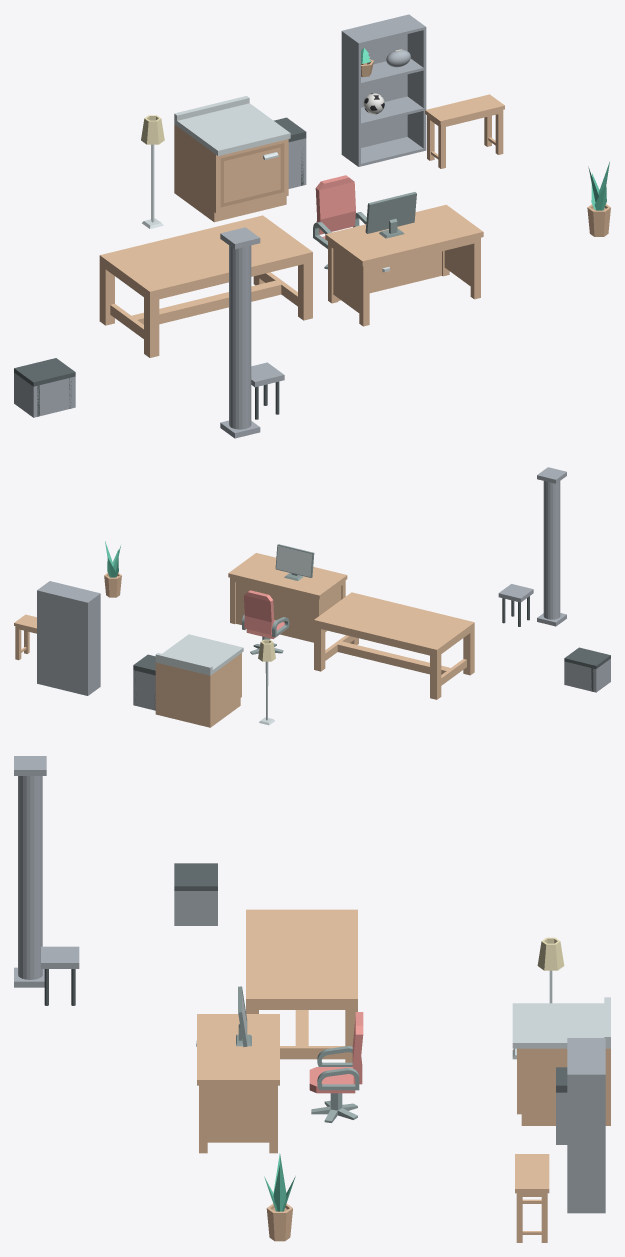
3 renders of one model, top to bottom at view 1: azimuth 30°, elevation 25°; view 2: azimuth 150°, elevation 25°; view 3: azimuth 270°, elevation 25°, orthographic. The views are drawn at different scales.
Visible parts, largest first — view 1: table_green__table(Clone), desk_blue__desk(Clone), cabinet_blue__kitchenCabinet(Clone), column_cyan__column_cyan shaft, cabinet_blue__door, sidetable_brown__sideTable(Clone), shelf_orange__shelf_orange back, shelf_orange__shelf_orange side_l, deskchair_black__chair, shelf_orange__shelf_orange side_r, crate_red__crate_red shell, monitor_gray__computerScreen(Clone) (+10 smaller); view 2: table_green__table(Clone), cabinet_blue__kitchenCabinet(Clone), desk_blue__desk(Clone), shelf_orange__shelf_orange back, column_cyan__column_cyan shaft, deskchair_black__chair, shelf_orange__shelf_orange side_l, crate_red__crate_red shell, monitor_gray__computerScreen(Clone), bin_gray__bin_gray shell, sidetable_brown__sideTable(Clone), crate_red__crate_red lid (+4 smaller); view 3: table_green__table(Clone), desk_blue__desk(Clone), cabinet_blue__kitchenCabinet(Clone), shelf_orange__shelf_orange side_r, column_cyan__column_cyan shaft, deskchair_black__chair, sidetable_brown__sideTable(Clone), crate_red__crate_red shell, shelf_orange__shelf_orange board3, crate_red__crate_red lid, stool_purple__stool_purple seat, lamp_white__lampRoundFloor(Clone) (+4 smaller).
Part boxes in pixels (box(x1,y1,x2,y2)): table_green__table(Clone): box(99, 215, 312, 357); desk_blue__desk(Clone): box(325, 204, 483, 326); cabinet_blue__kitchenCabinet(Clone): box(174, 96, 290, 222); column_cyan__column_cyan shaft: box(229, 245, 251, 429); cabinet_blue__door: box(220, 143, 284, 207); sidetable_brown__sideTable(Clone): box(425, 94, 504, 168); shelf_orange__shelf_orange back: box(344, 15, 407, 147); shelf_orange__shelf_orange side_l: box(341, 30, 360, 166); deskchair_black__chair: box(313, 175, 366, 248); shelf_orange__shelf_orange side_r: box(407, 14, 426, 150); crate_red__crate_red shell: box(14, 373, 75, 417); monitor_gray__computerScreen(Clone): box(365, 192, 416, 238); table_green__table(Clone): box(314, 592, 474, 699); cabinet_blue__kitchenCabinet(Clone): box(155, 634, 243, 727); desk_blue__desk(Clone): box(228, 553, 347, 642); shelf_orange__shelf_orange back: box(39, 590, 86, 695); column_cyan__column_cyan shaft: box(543, 481, 560, 619); deskchair_black__chair: box(242, 590, 289, 639); shelf_orange__shelf_orange side_l: box(86, 593, 100, 695); crate_red__crate_red shell: box(564, 658, 610, 692); monitor_gray__computerScreen(Clone): box(275, 544, 314, 580); bin_gray__bin_gray shell: box(133, 670, 155, 710); sidetable_brown__sideTable(Clone): box(14, 614, 36, 660); crate_red__crate_red lid: box(564, 647, 610, 668); table_green__table(Clone): box(246, 909, 357, 1062); desk_blue__desk(Clone): box(197, 1014, 279, 1153); cabinet_blue__kitchenCabinet(Clone): box(512, 997, 610, 1125); shelf_orange__shelf_orange side_r: box(567, 1073, 605, 1213); column_cyan__column_cyan shaft: box(18, 776, 42, 979); deskchair_black__chair: box(309, 1012, 363, 1093); sidetable_brown__sideTable(Clone): box(515, 1154, 549, 1242); crate_red__crate_red shell: box(174, 891, 217, 925); shelf_orange__shelf_orange board3: box(567, 1039, 603, 1073); crate_red__crate_red lid: box(174, 863, 217, 890); stool_purple__stool_purple seat: box(41, 946, 79, 968); lamp_white__lampRoundFloor(Clone): box(537, 937, 564, 1003).
Bounding box in the file's own units: 7.39 × 2.2 × 5.47.
